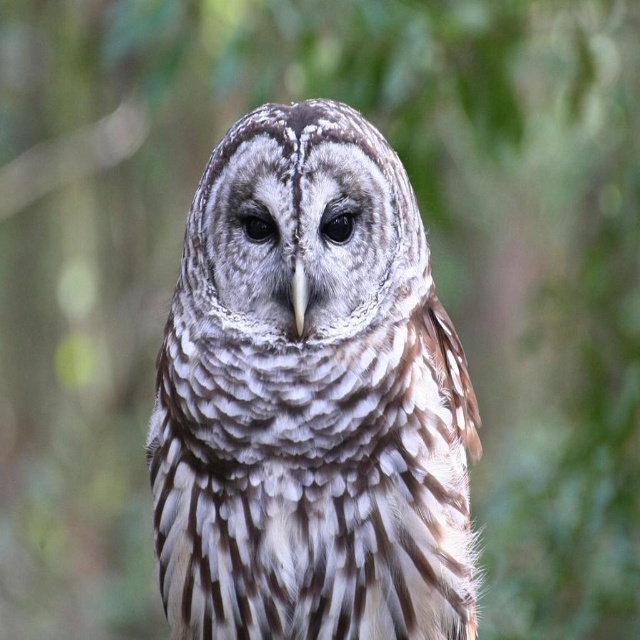Owl: (141, 97, 491, 640)
